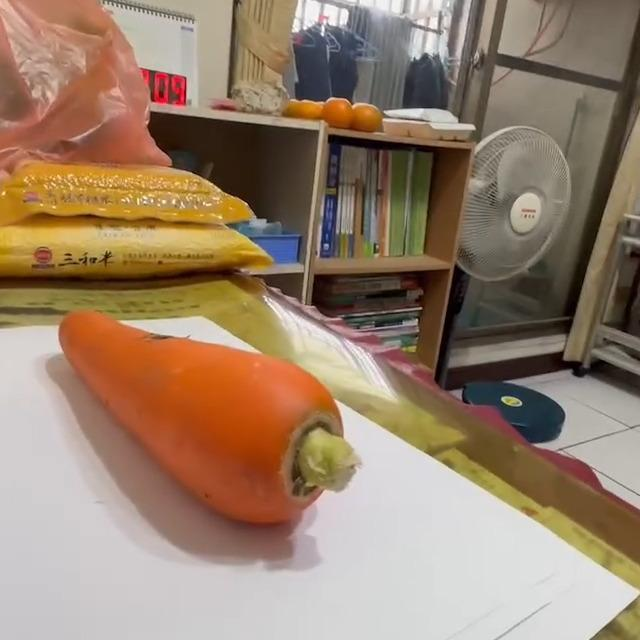carrot: (58, 308, 354, 530)
